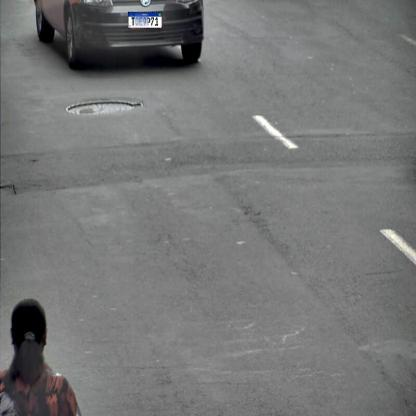PlacaM: (128, 12, 162, 28)
